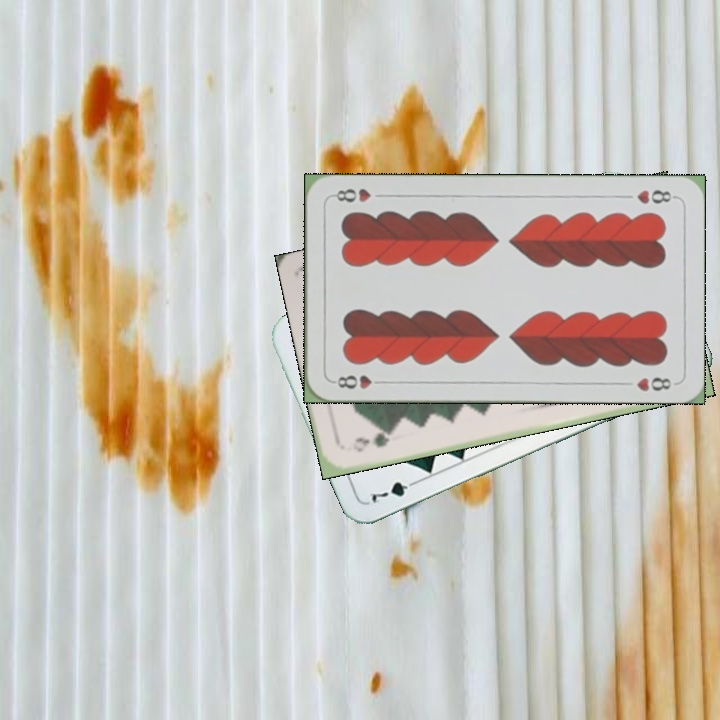G7: (367, 475, 422, 506)
G9: (349, 428, 396, 455)
H8: (329, 371, 388, 391), (632, 186, 679, 207)
